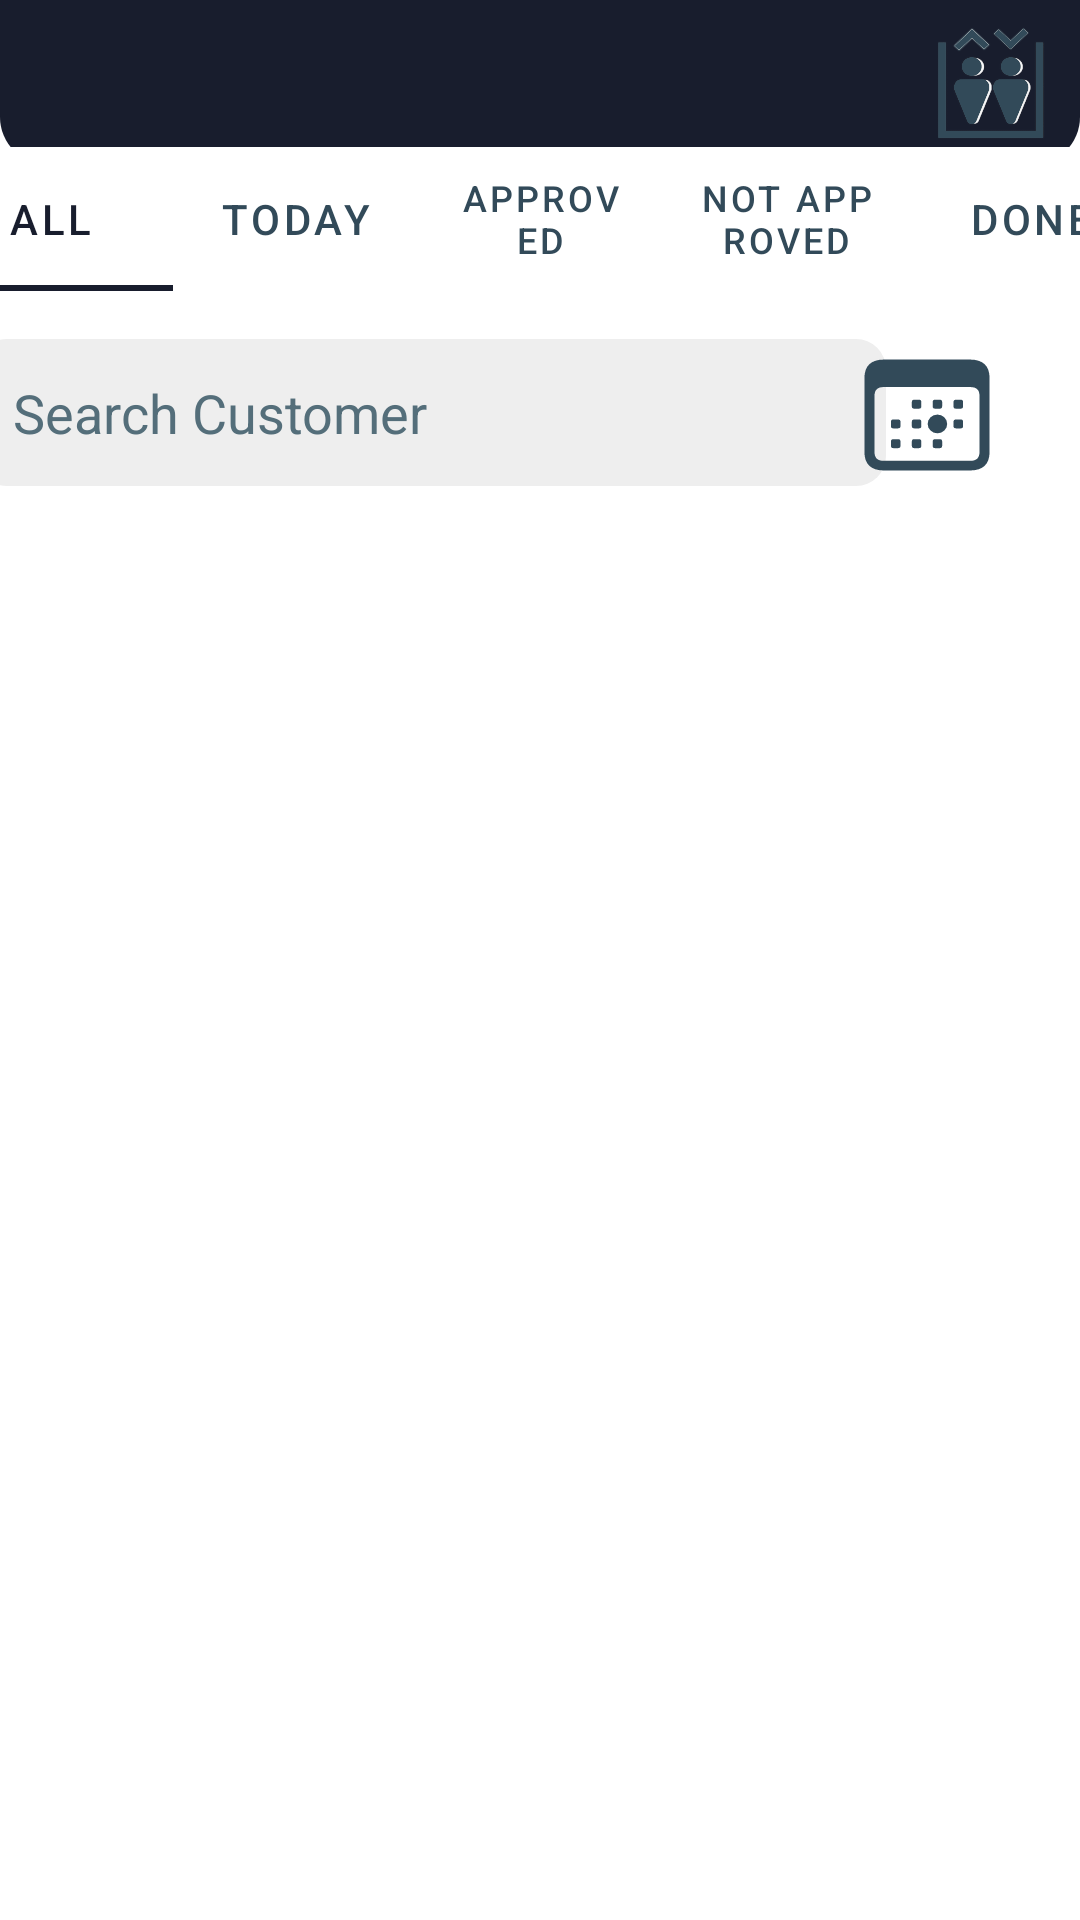

Where icons sit on this 1080px×1920px app screen, as [x1=x1, y1=y1, x2=x2, y2=y2]:
calendar today: [x1=864, y1=359, x2=990, y2=471]
